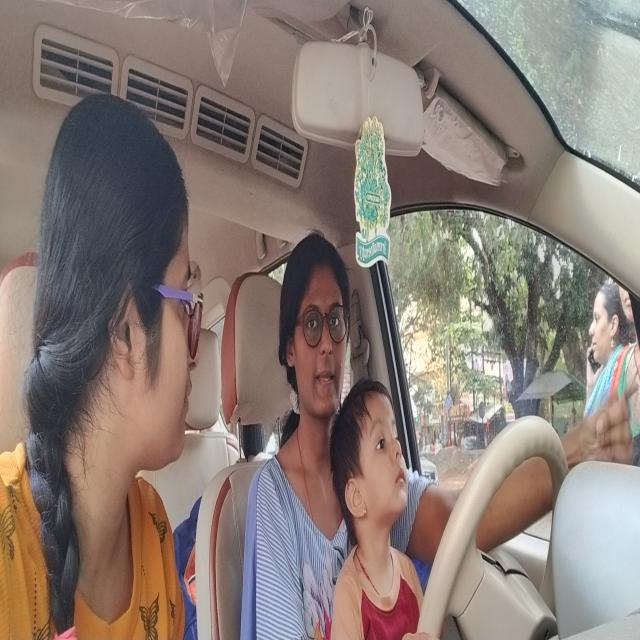child: (330, 378, 410, 537)
person: (31, 76, 212, 499), (272, 218, 350, 456)
